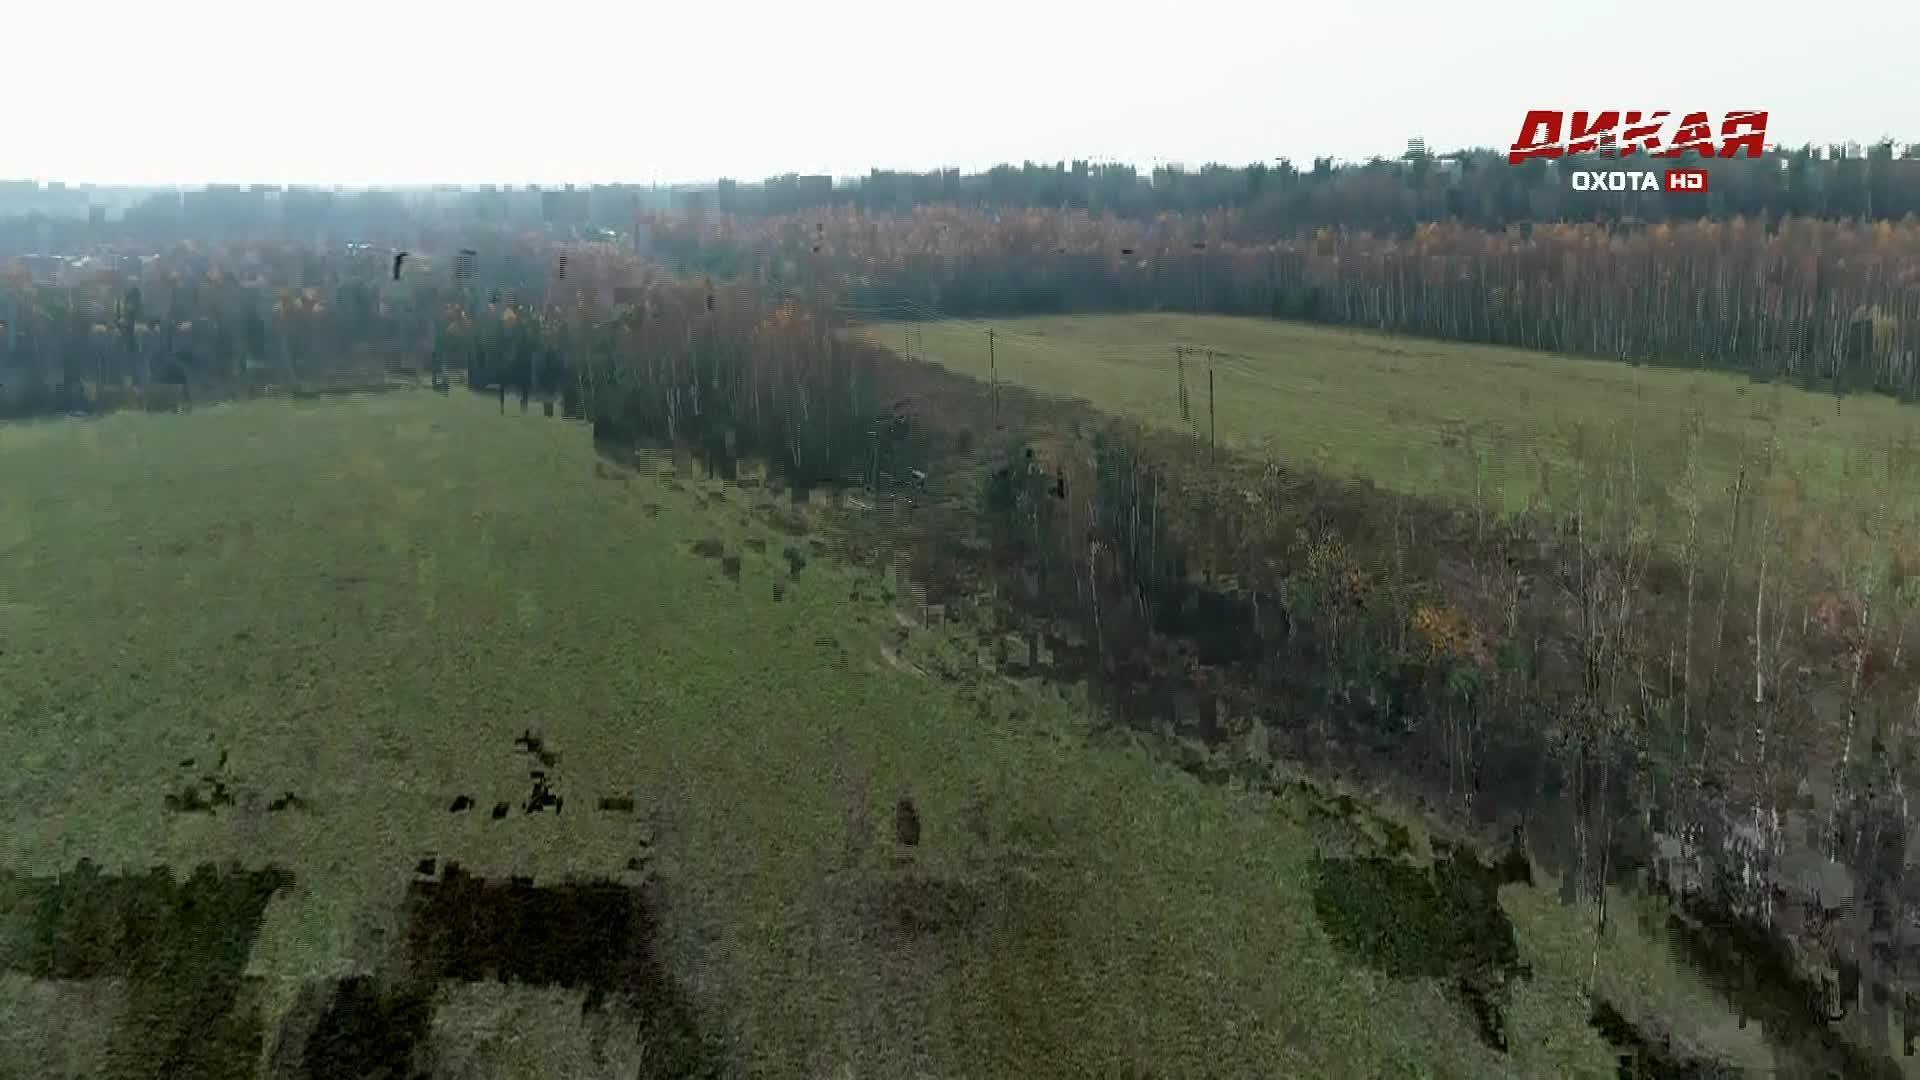Dikaya_Ohota_HD: (1506, 104, 1775, 196)
